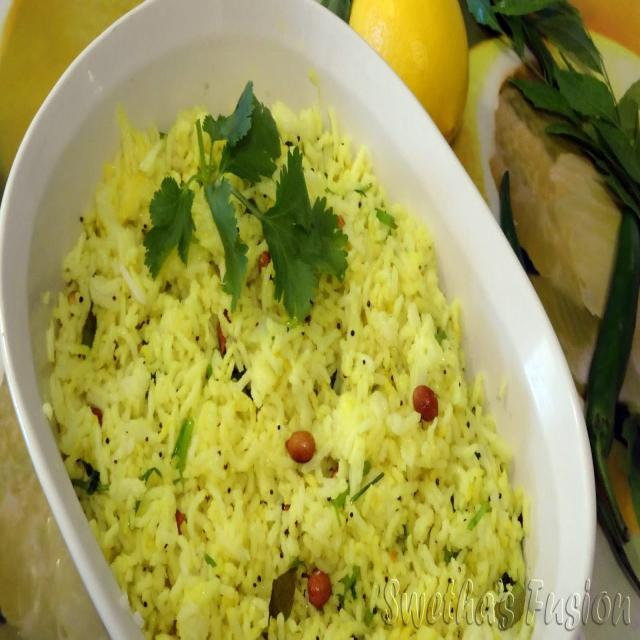lemon rice: (36, 65, 542, 640)
